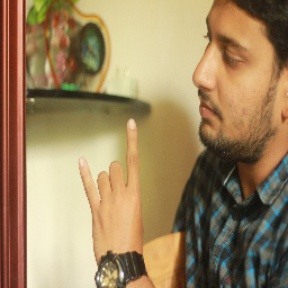V: (74, 116, 153, 263)
